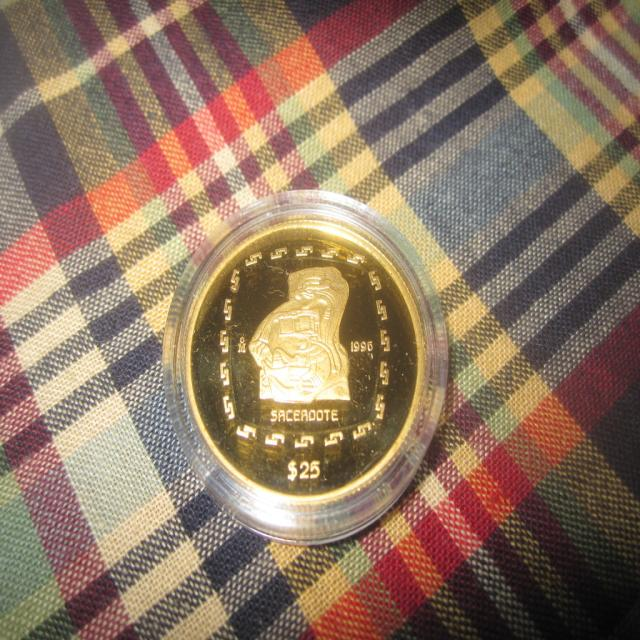Coin: (183, 212, 429, 500)
